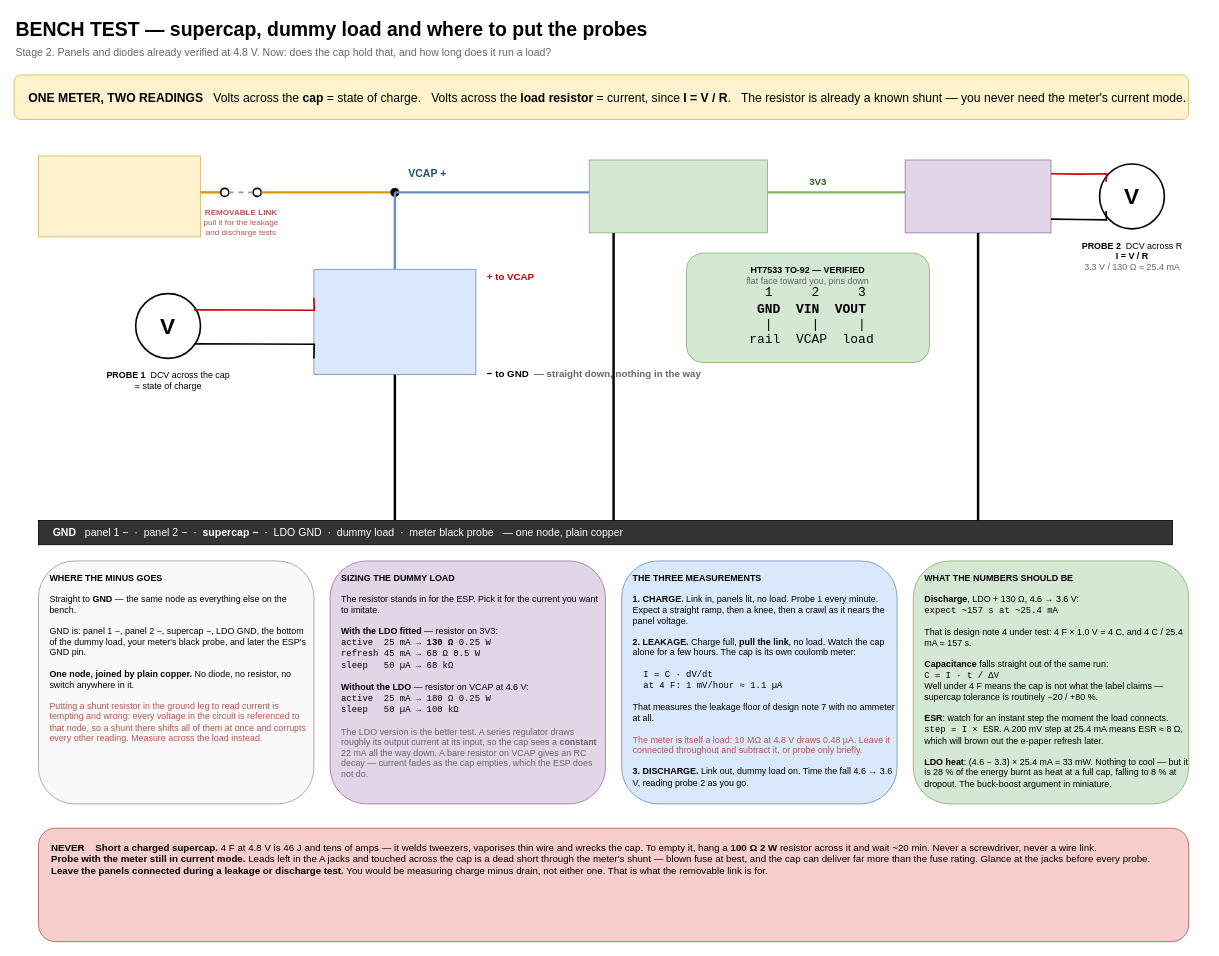
Image size: 1219x956. Some labels were removed from this diagram. Here are the shapes that lost their labels. From the top down, the centre of each, then its label:
At point 119,196: "PANELS + D1 / D2 verified stage 1 4.8 V after the diodes".
At point 677,196: "HT7533 3.3 V LDO 1 GND · 2 VIN · 3 VOUT 1 µF in · 1 µF out".
At point 977,196: "DUMMY LOAD 130 Ω 0.25 W = 25.4 mA ≈ ESP active".
At point 394,322: "SUPERCAP 5.5 V / 4 F marked lead up".
